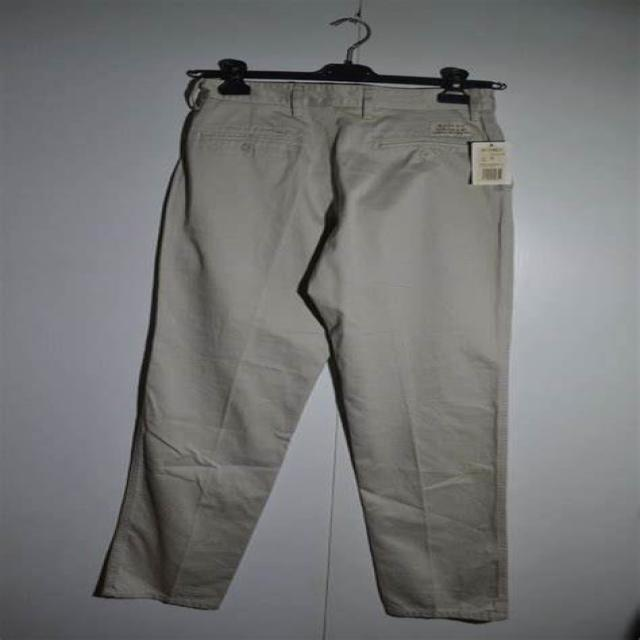long-pants: (91, 76, 512, 624)
